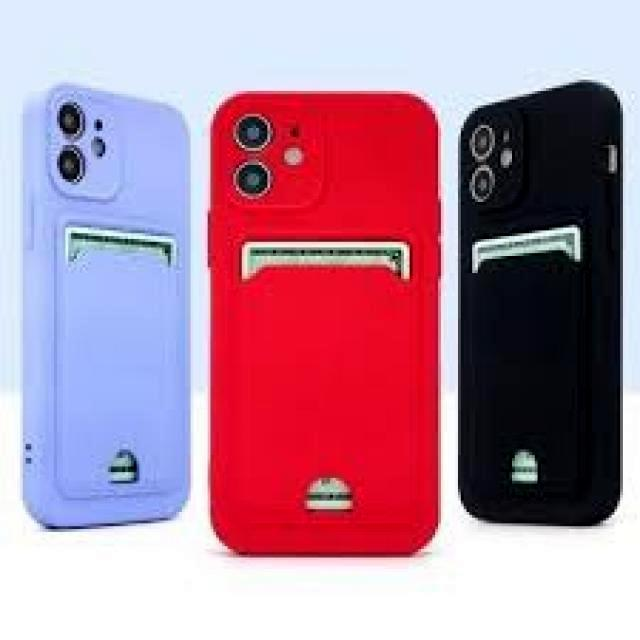lens_back: (232, 110, 274, 154), (232, 159, 274, 201), (54, 143, 89, 189), (54, 100, 88, 140), (468, 164, 498, 204), (470, 124, 496, 159)
phone: (206, 85, 446, 559), (18, 86, 197, 535), (462, 80, 618, 535)
